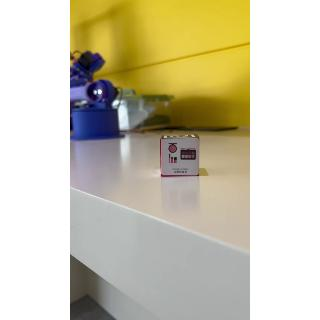Expired_Cosmetic: (162, 140, 203, 181)
